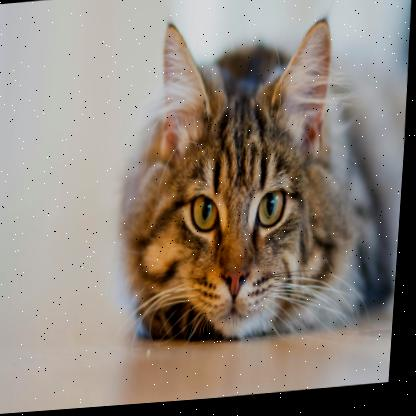cat: (105, 3, 377, 351)
